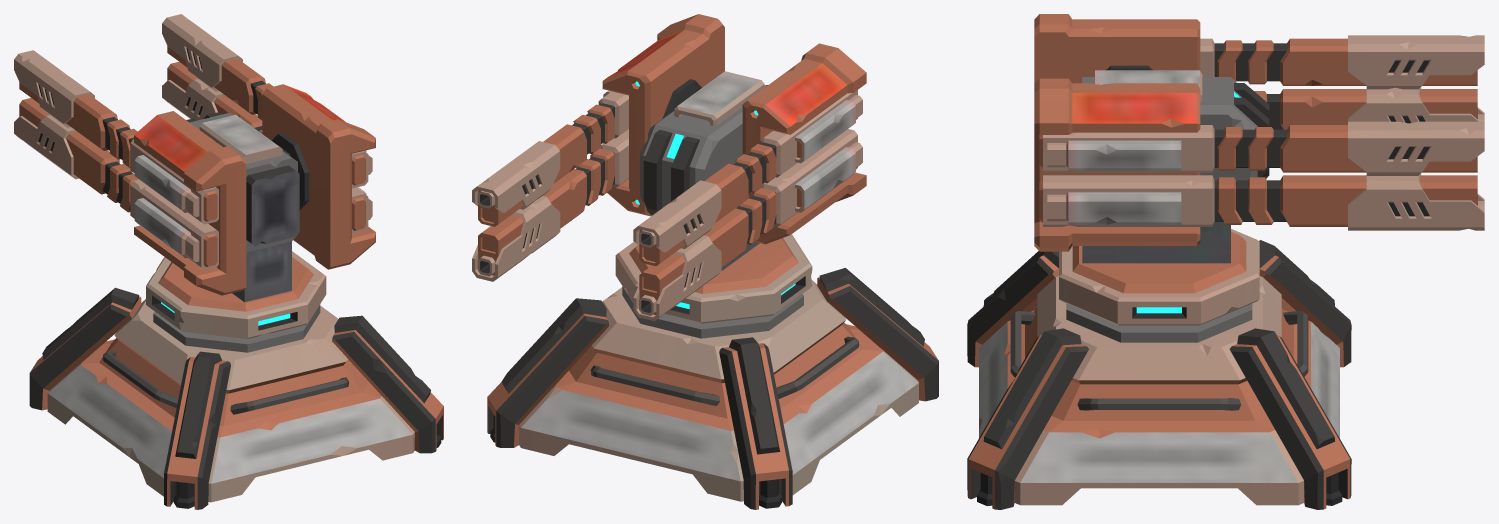
File: entity73644.glb
The picture shows the model from 3 angles, left to right: view 1: azimuth 30°, elevation 25°; view 2: azimuth 150°, elevation 25°; view 3: azimuth 270°, elevation 25°; orthographic projection. The views are drawn at different scales.
Parts seen in each view (by area): view 1: node_SM_Prop_Turret_Large_02, node_SM_Prop_Turret_Large_02_Arm_r_01, node_SM_Prop_Turret_Large_02_Arm_l_01, node_SM_Prop_Turret_Large_02_Barrel_l_02, node_SM_Prop_Turret_Large_02_Barrel_l_01, node_SM_Prop_Turret_Large_02_Barrel_r_01, node_SM_Prop_Turret_Large_02_Barrel_r_02; view 2: node_SM_Prop_Turret_Large_02, node_SM_Prop_Turret_Large_02_Barrel_l_02, node_SM_Prop_Turret_Large_02_Barrel_l_01, node_SM_Prop_Turret_Large_02_Arm_r_01, node_SM_Prop_Turret_Large_02_Arm_l_01, node_SM_Prop_Turret_Large_02_Barrel_r_02, node_SM_Prop_Turret_Large_02_Barrel_r_01; view 3: node_SM_Prop_Turret_Large_02, node_SM_Prop_Turret_Large_02_Barrel_r_02, node_SM_Prop_Turret_Large_02_Barrel_r_01, node_SM_Prop_Turret_Large_02_Barrel_l_01, node_SM_Prop_Turret_Large_02_Arm_r_01, node_SM_Prop_Turret_Large_02_Arm_l_01, node_SM_Prop_Turret_Large_02_Barrel_l_02.
Part boxes in pixels (x1,y1,x2,y2): node_SM_Prop_Turret_Large_02: [29, 112, 443, 509]; node_SM_Prop_Turret_Large_02_Arm_r_01: [262, 84, 375, 269]; node_SM_Prop_Turret_Large_02_Arm_l_01: [134, 111, 246, 295]; node_SM_Prop_Turret_Large_02_Barrel_l_02: [14, 98, 218, 269]; node_SM_Prop_Turret_Large_02_Barrel_l_01: [14, 50, 218, 224]; node_SM_Prop_Turret_Large_02_Barrel_r_01: [162, 14, 372, 188]; node_SM_Prop_Turret_Large_02_Barrel_r_02: [162, 61, 372, 233]; node_SM_Prop_Turret_Large_02: [487, 71, 938, 509]; node_SM_Prop_Turret_Large_02_Barrel_l_02: [633, 129, 862, 321]; node_SM_Prop_Turret_Large_02_Barrel_l_01: [633, 90, 862, 266]; node_SM_Prop_Turret_Large_02_Arm_r_01: [602, 14, 724, 216]; node_SM_Prop_Turret_Large_02_Arm_l_01: [742, 43, 866, 244]; node_SM_Prop_Turret_Large_02_Barrel_r_02: [472, 129, 628, 281]; node_SM_Prop_Turret_Large_02_Barrel_r_01: [472, 90, 628, 226]; node_SM_Prop_Turret_Large_02: [967, 70, 1351, 509]; node_SM_Prop_Turret_Large_02_Barrel_r_02: [1039, 174, 1484, 230]; node_SM_Prop_Turret_Large_02_Barrel_r_01: [1039, 121, 1484, 175]; node_SM_Prop_Turret_Large_02_Barrel_l_01: [1200, 35, 1484, 89]; node_SM_Prop_Turret_Large_02_Arm_r_01: [1034, 78, 1200, 251]; node_SM_Prop_Turret_Large_02_Arm_l_01: [1034, 14, 1200, 83]; node_SM_Prop_Turret_Large_02_Barrel_l_02: [1254, 87, 1484, 129].
Size of the model in its own units: 3.68 by 3.99 by 4.96.
2 materials, 2 textured.
